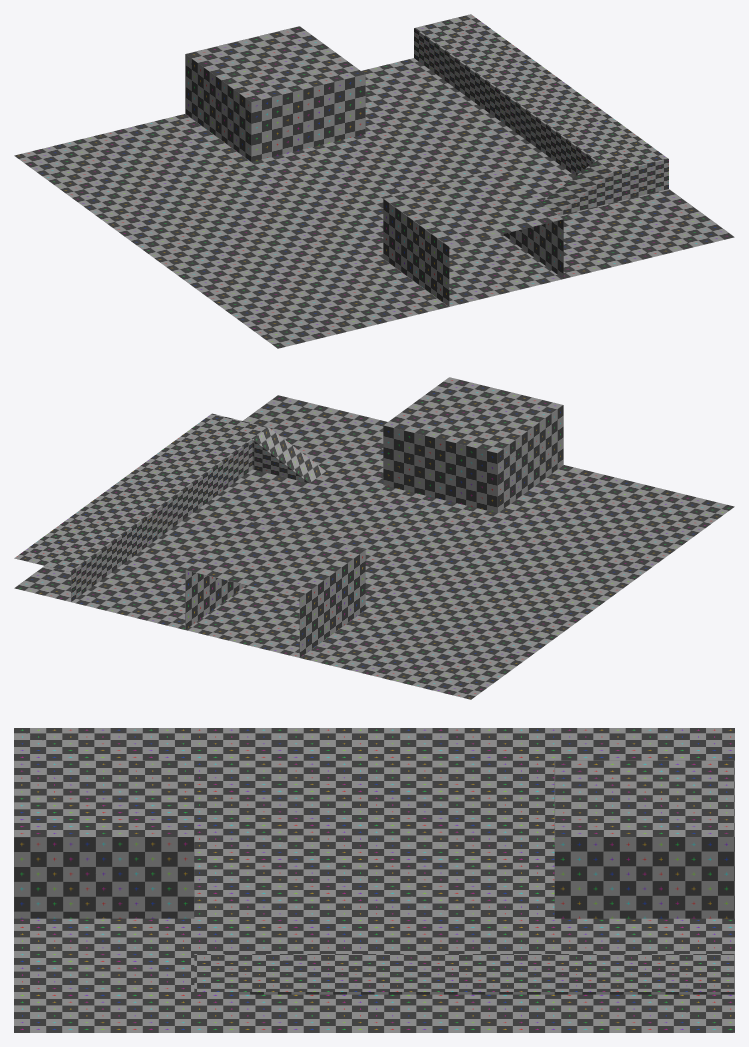
Rendered from simple_map.gltf.
The picture shows the model from 3 angles, top to bottom: view 1: azimuth 30°, elevation 25°; view 2: azimuth 150°, elevation 25°; view 3: azimuth 270°, elevation 25°; orthographic projection. The views are drawn at different scales.
Parts seen in each view (by area): view 1: map-col; view 2: map-col; view 3: map-col.
Boxes of the visible parts, <box> form: map-col: <box>14,14,734,348</box>; map-col: <box>14,377,734,699</box>; map-col: <box>14,728,734,1032</box>.
Size of the model in its own units: 200 by 25 by 200.
Materials: 1 (1 with a texture image).
